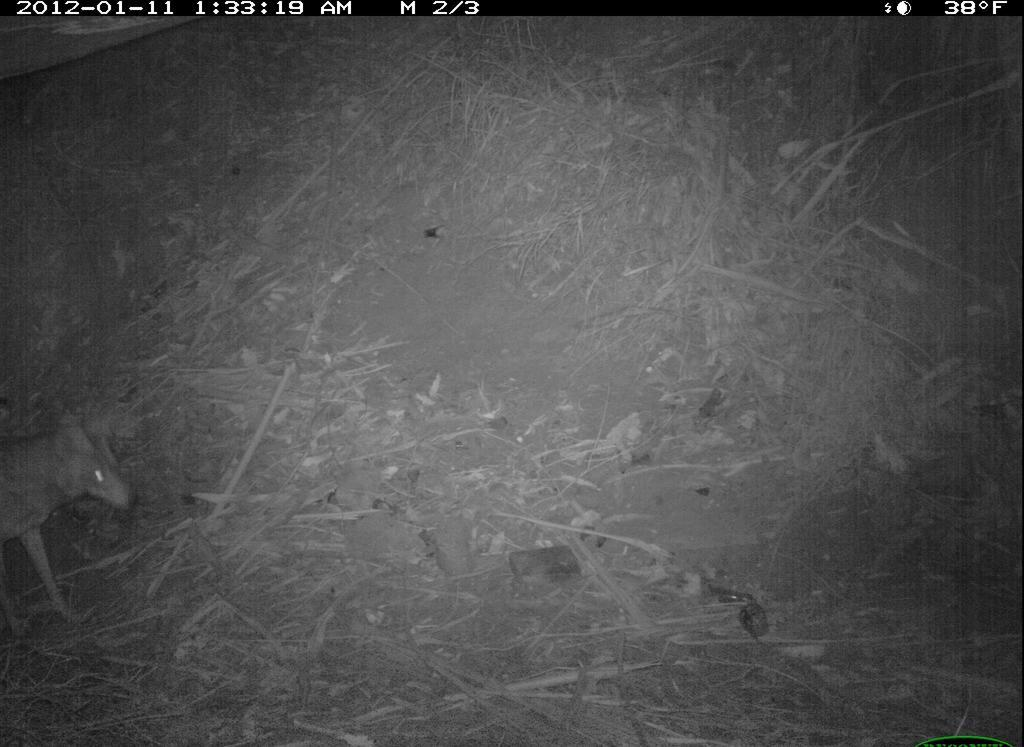coyote: (1, 408, 146, 636)
